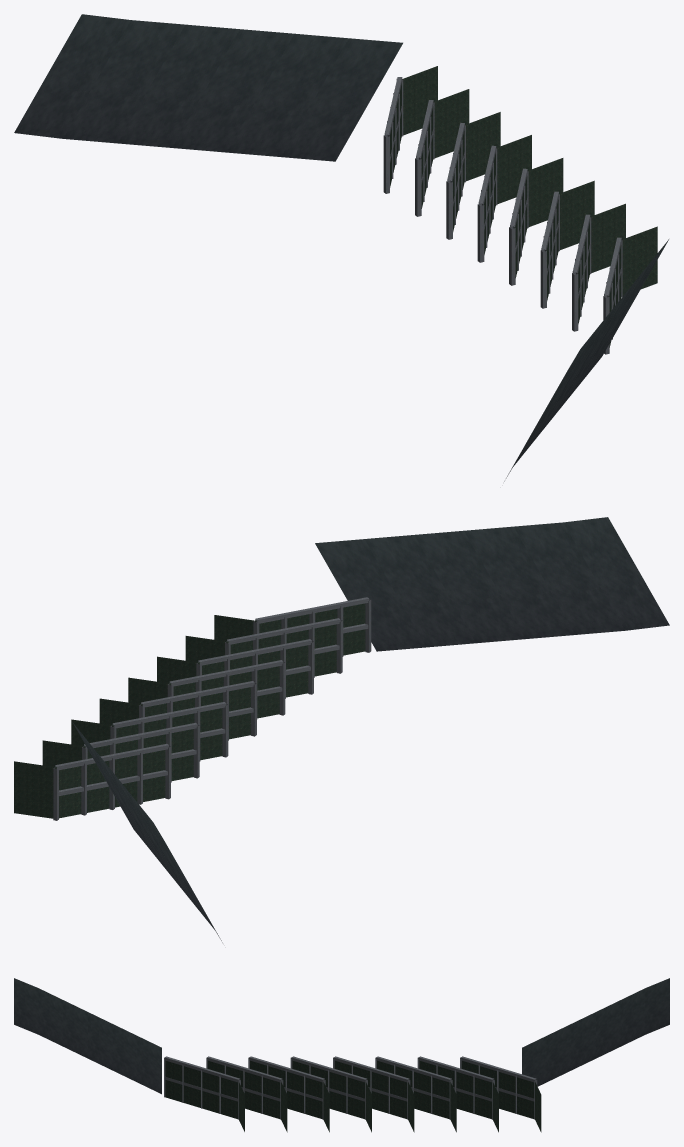
The model's file is lot_back_wall.glb.
3 views of the same model, one above another, from view 1: azimuth 30°, elevation 25°; view 2: azimuth 150°, elevation 25°; view 3: azimuth 270°, elevation 25° (orthographic). The views are drawn at different scales.
Visible parts, largest first — view 1: lot_taper_cut, lattice_z28.0, lattice_z36.0, lattice_z16.0, lattice_z24.0, lattice_z20.0, lattice_z32.0, lattice_z40.0, lattice_z44.0; view 2: lot_taper_cut, lattice_z16.0, lattice_z44.0, lattice_z28.0, lattice_z40.0, lattice_z32.0, lattice_z24.0, lattice_z36.0, lattice_z20.0; view 3: lot_taper_cut, lattice_z44.0, lattice_z16.0, lattice_z28.0, lattice_z40.0, lattice_z36.0, lattice_z24.0, lattice_z20.0, lattice_z32.0.
Part boxes in pixels (left/top/right/bottom): lot_taper_cut: left=14, top=14, right=668, bottom=481; lattice_z28.0: left=477, top=135, right=531, bottom=262; lattice_z36.0: left=540, top=180, right=594, bottom=308; lattice_z16.0: left=383, top=66, right=437, bottom=193; lattice_z24.0: left=446, top=112, right=500, bottom=239; lattice_z20.0: left=415, top=89, right=469, bottom=216; lattice_z32.0: left=509, top=158, right=563, bottom=285; lattice_z40.0: left=572, top=203, right=625, bottom=331; lattice_z44.0: left=603, top=226, right=657, bottom=354; lot_taper_cut: left=72, top=517, right=669, bottom=942; lattice_z16.0: left=14, top=743, right=170, bottom=820; lattice_z44.0: left=214, top=597, right=371, bottom=656; lattice_z28.0: left=99, top=681, right=256, bottom=740; lattice_z40.0: left=185, top=618, right=342, bottom=677; lattice_z32.0: left=128, top=660, right=285, bottom=719; lattice_z24.0: left=71, top=702, right=228, bottom=761; lattice_z36.0: left=157, top=639, right=313, bottom=698; lattice_z20.0: left=42, top=722, right=199, bottom=782; lot_taper_cut: left=14, top=978, right=669, bottom=1094; lattice_z44.0: left=164, top=1056, right=244, bottom=1131; lattice_z16.0: left=460, top=1056, right=541, bottom=1132; lattice_z28.0: left=333, top=1056, right=414, bottom=1132; lattice_z40.0: left=206, top=1056, right=287, bottom=1132; lattice_z36.0: left=248, top=1056, right=329, bottom=1132; lattice_z24.0: left=375, top=1056, right=456, bottom=1132; lattice_z20.0: left=417, top=1056, right=498, bottom=1132; lattice_z32.0: left=290, top=1056, right=371, bottom=1132.
Size of the model in its own units: 24.21 by 7.2 by 62.
Materials: 3 (3 with a texture image).
